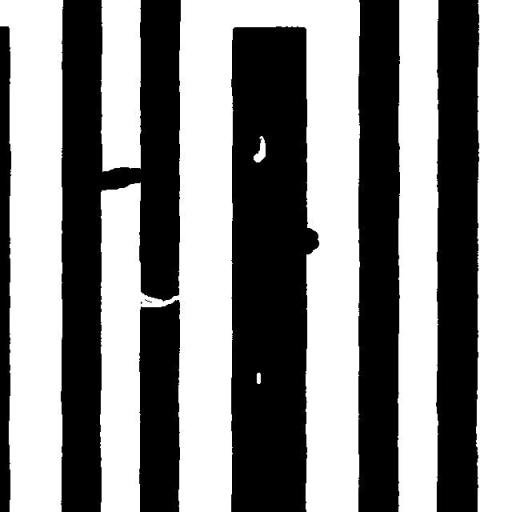open: (127, 282, 190, 314)
pin-hole: (246, 128, 272, 170), (249, 365, 268, 391)
short: (84, 159, 153, 198)
spur: (292, 220, 326, 262)
